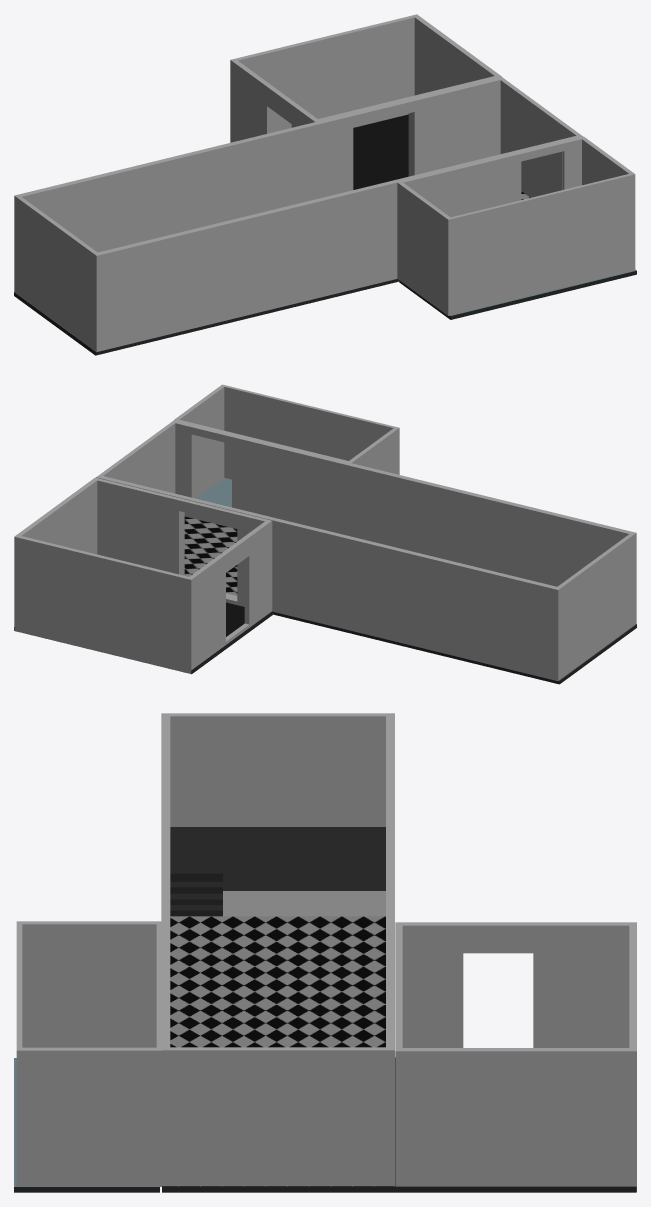
Rendered from ny_kanskje_funker_rom.fbx.
3 views of the same model, one above another, from view 1: azimuth 30°, elevation 25°; view 2: azimuth 150°, elevation 25°; view 3: azimuth 270°, elevation 25° (orthographic). The views are drawn at different scales.
Parts seen in each view (by area): view 1: pCube45, pCube46, pCube36, pCube10, pCube9, pCube8; view 2: pCube45, pCube36, pCube46, pCube9, pCube10, pCube8; view 3: pCube45, pCube36, pCube9, pCube46, pCube10, pCube8.
Boxes of the visible parts, x1,y1,x2,y2 form: pCube45: (14,76,583,351); pCube46: (397,137,635,315); pCube36: (230,14,501,176); pCube10: (353,114,408,189); pCube9: (14,191,529,355); pCube8: (399,269,636,319); pCube45: (96,420,636,681); pCube36: (14,477,272,673); pCube46: (174,384,399,498); pCube9: (184,516,636,684); pCube10: (14,602,273,674); pCube8: (196,478,231,507); pCube45: (161,713,394,1186); pCube36: (395,922,636,1191); pCube9: (162,827,393,1192); pCube46: (16,921,162,1186); pCube10: (392,1057,636,1192); pCube8: (14,1058,159,1192).
Size of the model in its own units: 75.4 by 14.7 by 58.67.
